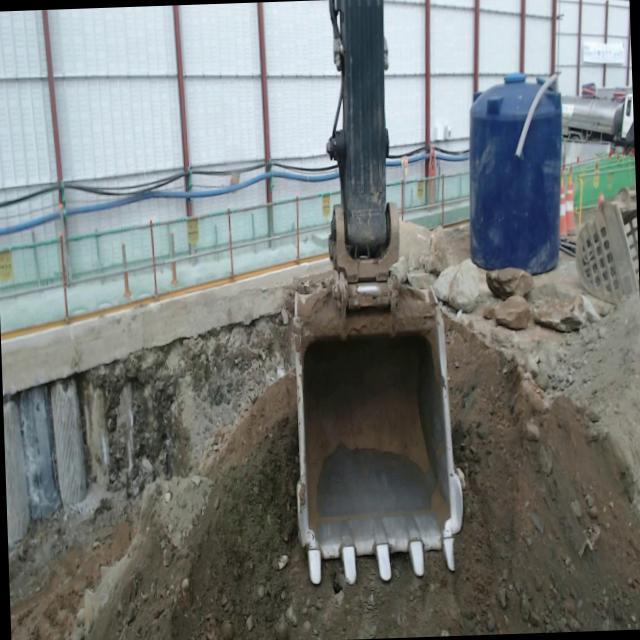red-sand: (8, 318, 640, 640)
rocks: (390, 219, 480, 310)
stone: (399, 219, 455, 273), (432, 258, 486, 311), (531, 294, 600, 331), (486, 268, 533, 299), (491, 295, 532, 329), (407, 270, 436, 290), (390, 256, 408, 282)
white-sand: (460, 290, 640, 512)
